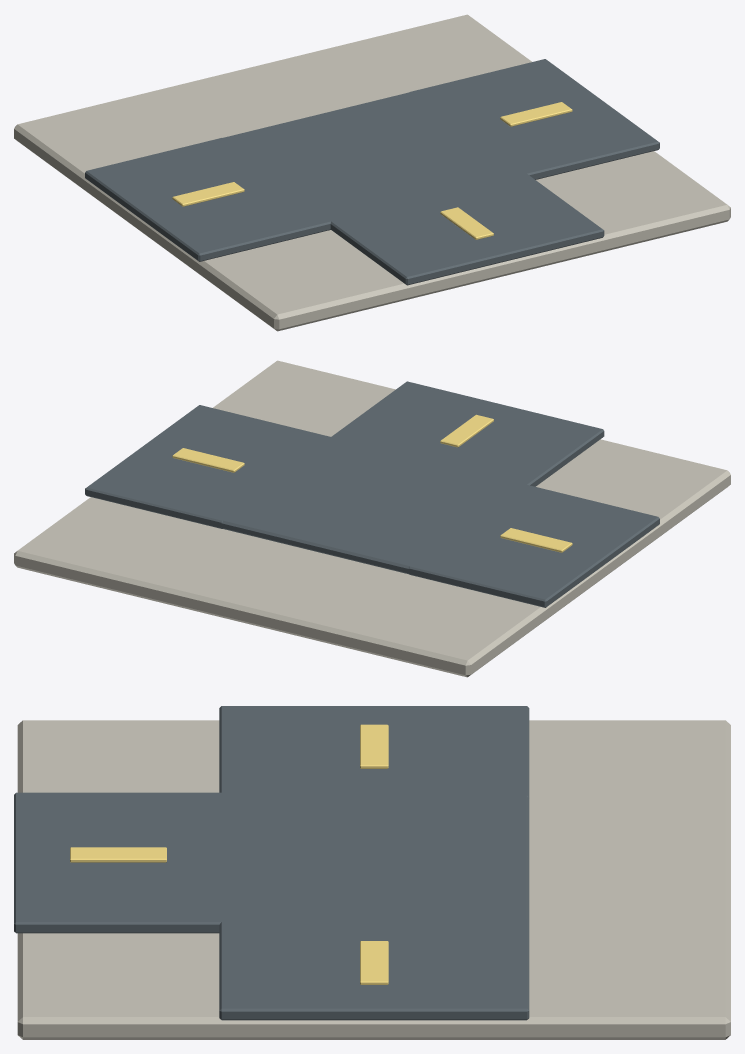
Rendered from ROAD_LOCAL_1x1_T.glb.
The picture shows the model from 3 angles, top to bottom: view 1: azimuth 30°, elevation 25°; view 2: azimuth 150°, elevation 25°; view 3: azimuth 270°, elevation 25°; orthographic projection. The views are drawn at different scales.
Visible parts, largest first — view 1: ROAD_LOCAL_1x1_T_Visual; view 2: ROAD_LOCAL_1x1_T_Visual; view 3: ROAD_LOCAL_1x1_T_Visual.
Boxes of the visible parts, x1=… form: ROAD_LOCAL_1x1_T_Visual: x1=14, y1=14, x2=730, y2=331; ROAD_LOCAL_1x1_T_Visual: x1=14, y1=360, x2=730, y2=677; ROAD_LOCAL_1x1_T_Visual: x1=14, y1=706, x2=730, y2=1039.
Size of what is drawn, in the model's own units: 2 by 0.118 by 1.99.
